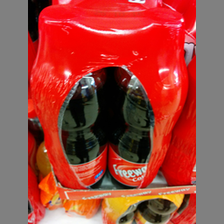soda: (29, 6, 110, 190), (108, 7, 190, 188)
